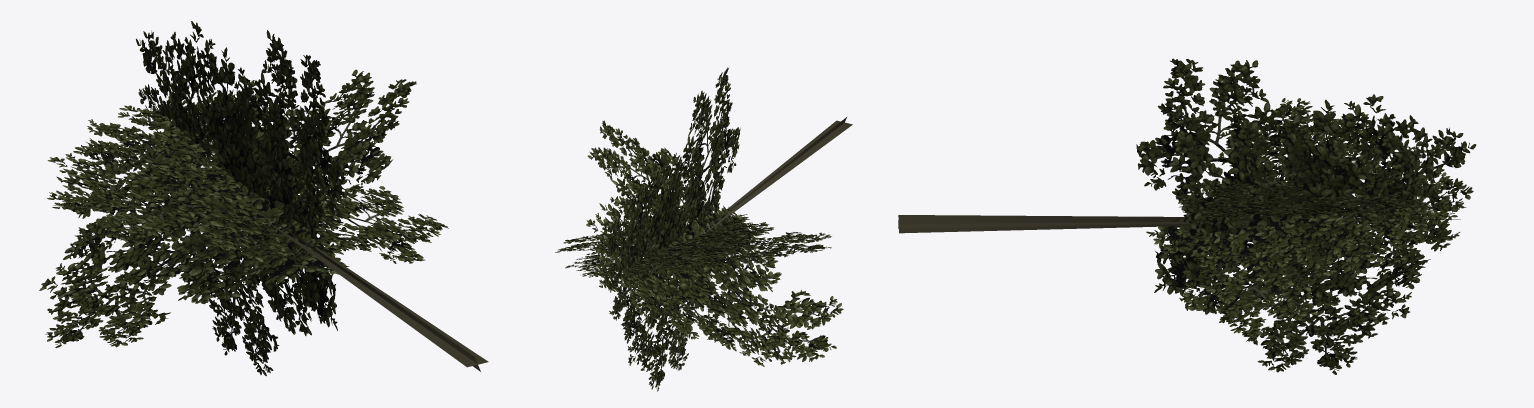
The model's file is MEP_Tree_02_e_LOD_02.fbx.
The picture shows the model from 3 angles, left to right: view 1: azimuth 30°, elevation 25°; view 2: azimuth 150°, elevation 25°; view 3: azimuth 270°, elevation 25°; orthographic projection. The views are drawn at different scales.
Visible parts, largest first — view 1: MEP_Leafs_02_e_LOD_02; view 2: MEP_Leafs_02_e_LOD_02; view 3: MEP_Leafs_02_e_LOD_02.
Boxes of the visible parts, bbox=[...] form: MEP_Leafs_02_e_LOD_02: bbox=[39, 21, 488, 376]; MEP_Leafs_02_e_LOD_02: bbox=[555, 67, 852, 391]; MEP_Leafs_02_e_LOD_02: bbox=[898, 58, 1476, 374].
Size of the model in its own units: 26.43 by 25.42 by 37.68.
